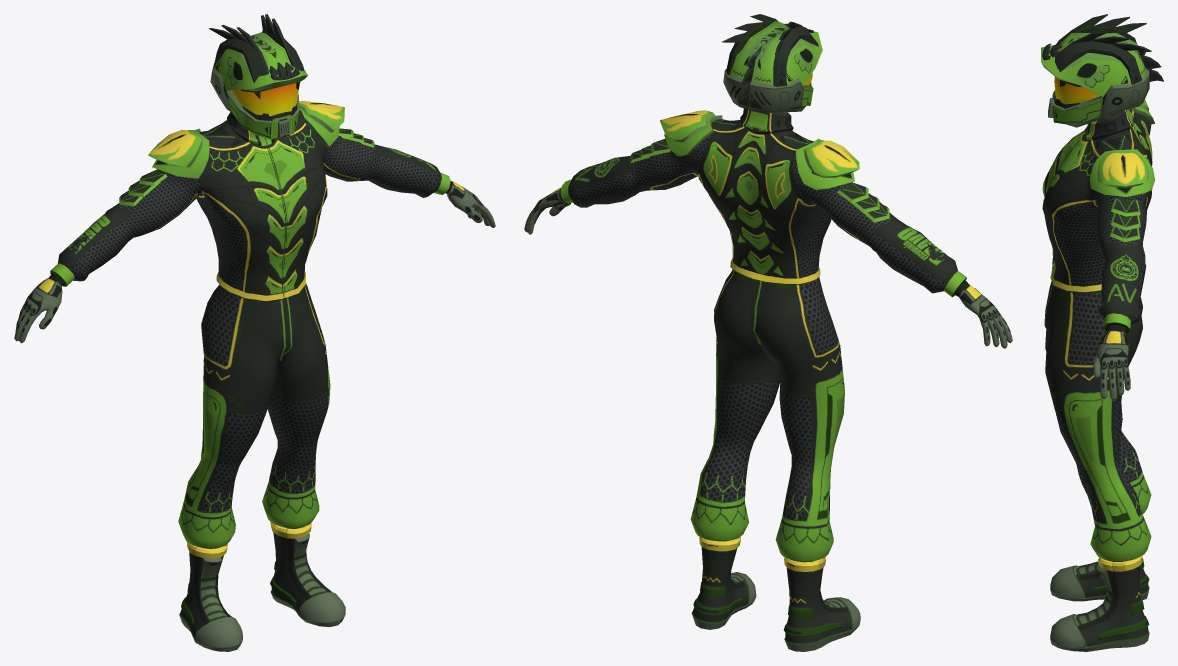
File: tje_#3.fbx
The picture shows the model from 3 angles, left to right: view 1: azimuth 30°, elevation 25°; view 2: azimuth 150°, elevation 25°; view 3: azimuth 270°, elevation 25°; orthographic projection.
Visible parts, largest first — view 1: tje_#3; view 2: tje_#3; view 3: tje_#3.
Part boxes in pixels (x1,y1,x2,y2): tje_#3: [14, 14, 495, 651]; tje_#3: [524, 14, 1012, 651]; tje_#3: [1041, 14, 1163, 651].
Size of the model in its own units: 147 by 176 by 33.04.
1 material, 1 textured.
